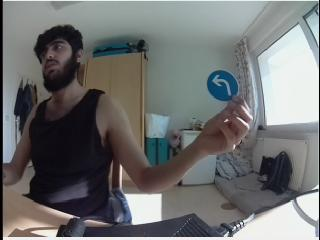left: (207, 70, 237, 100)
